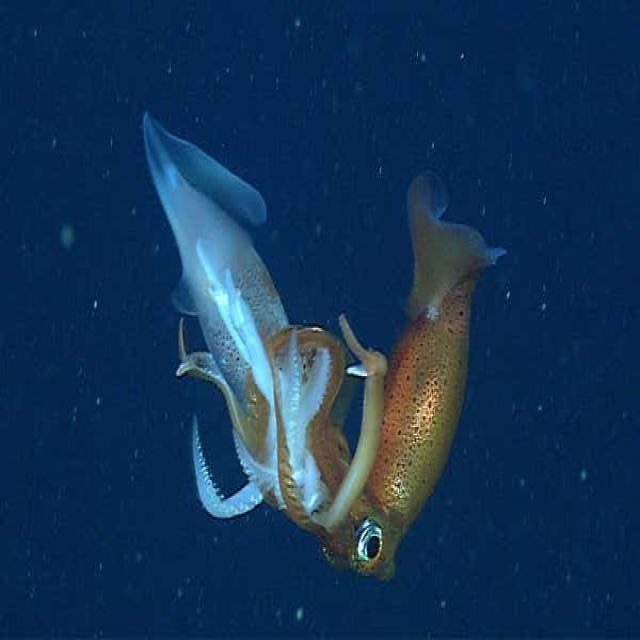squid: (278, 176, 502, 576), (143, 112, 332, 518)
